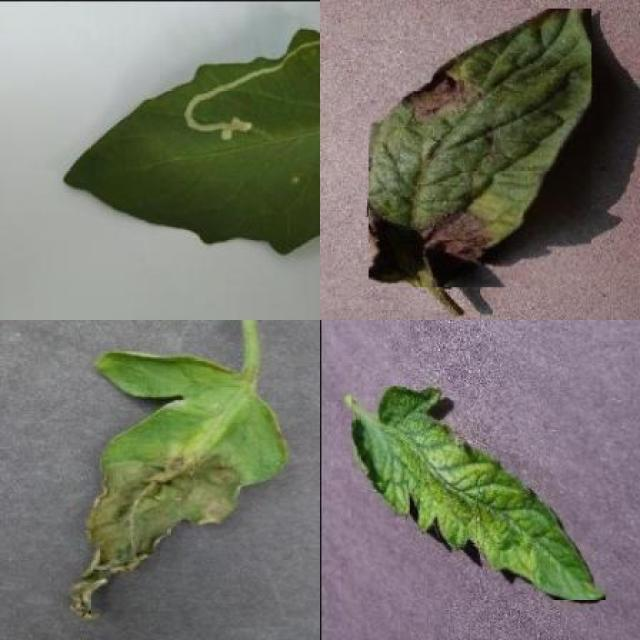Late Blight: (368, 9, 592, 287), (69, 347, 288, 623)
Leaf Miner: (61, 26, 320, 260)
Mosaic Virus: (352, 386, 605, 600)
